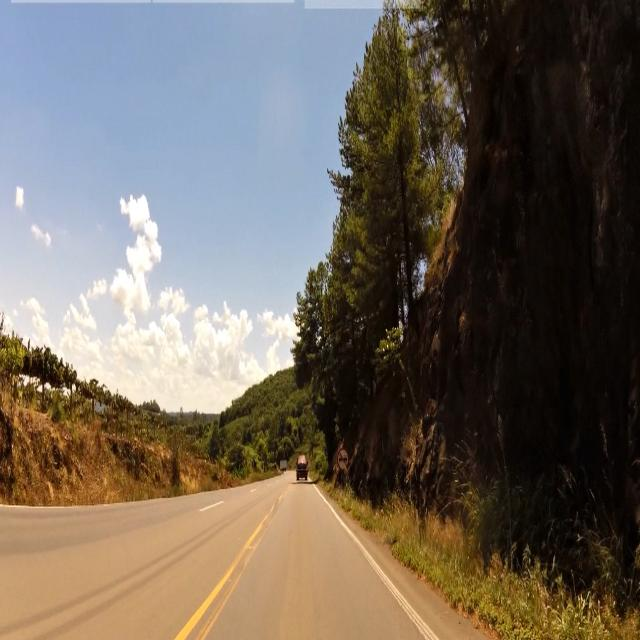R-7: (336, 446, 349, 470)
